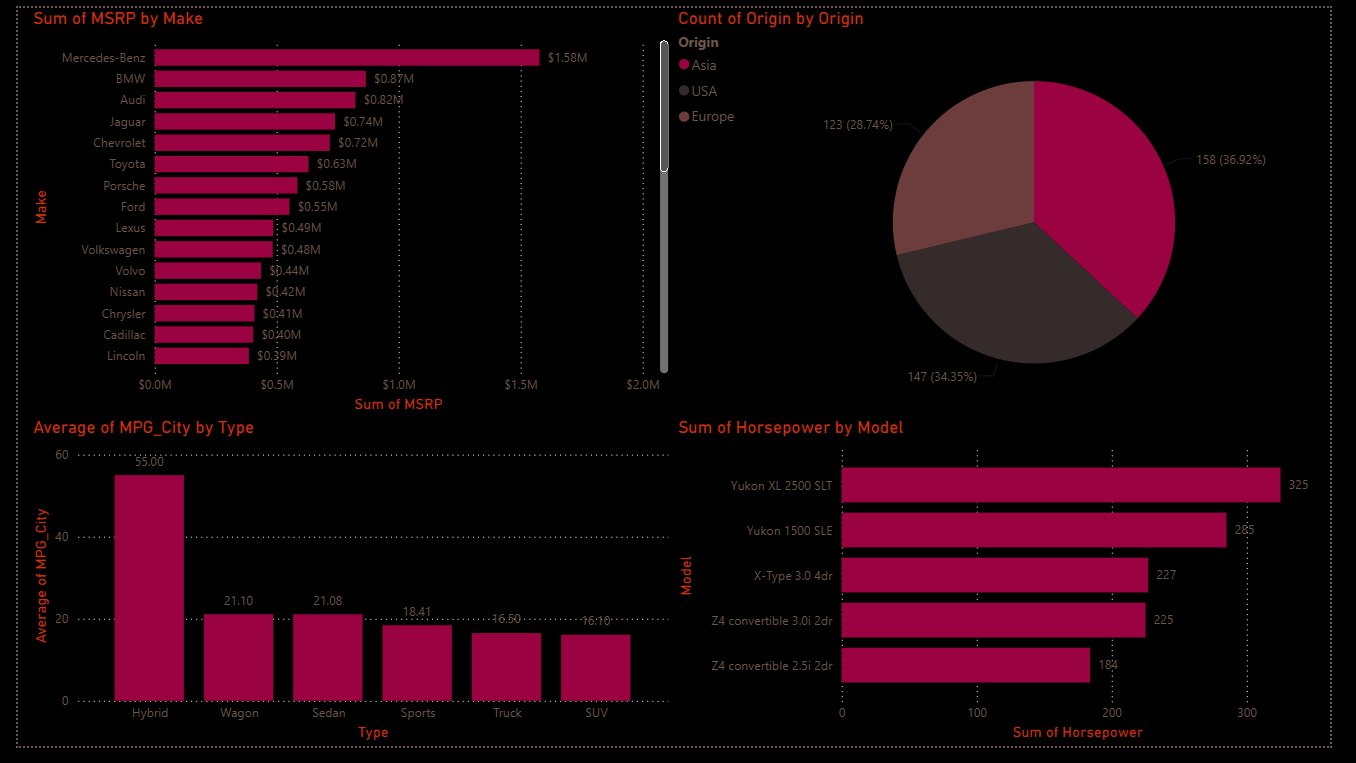

The page's visual inventory and layout, read from the dashboard file:
{"tool":"powerbi","page":{"name":"Page 1","canvas":[1280,720],"ordinal":0},"visuals":[{"type":"clusteredBarChart","fields":{"Category":["CARS.Make"],"Y":["Sum(CARS.MSRP)"]},"box":[9.6,0,629.8,399.3],"z":0},{"type":"clusteredColumnChart","fields":{"Category":["CARS.Type"],"Y":["Avg(CARS.MPG_City)"]},"box":[9.6,399.3,629.8,321.1],"z":1000},{"type":"pieChart","fields":{"Category":["CARS.Origin"],"Y":["CountNonNull(CARS.Origin)"]},"box":[639.5,0,640.8,399.3],"z":2000},{"type":"clusteredBarChart","fields":{"Category":["CARS.Model"],"Y":["Sum(CARS.Horsepower)"]},"box":[639.5,399.3,640.8,321.1],"z":3000}]}

Visuals, with their boxes in screenshot pixels (x1, y1, x2, y2), scaled from the page's 1280x720 canvas onto the 1356x763 screenshot:
clusteredBarChart - CARS.Make x Sum(CARS.MSRP): left=10, top=0, right=677, bottom=423
clusteredColumnChart - CARS.Type x Avg(CARS.MPG_City): left=10, top=423, right=677, bottom=762
pieChart - CARS.Origin x CountNonNull(CARS.Origin): left=677, top=0, right=1355, bottom=423
clusteredBarChart - CARS.Model x Sum(CARS.Horsepower): left=677, top=423, right=1355, bottom=762
